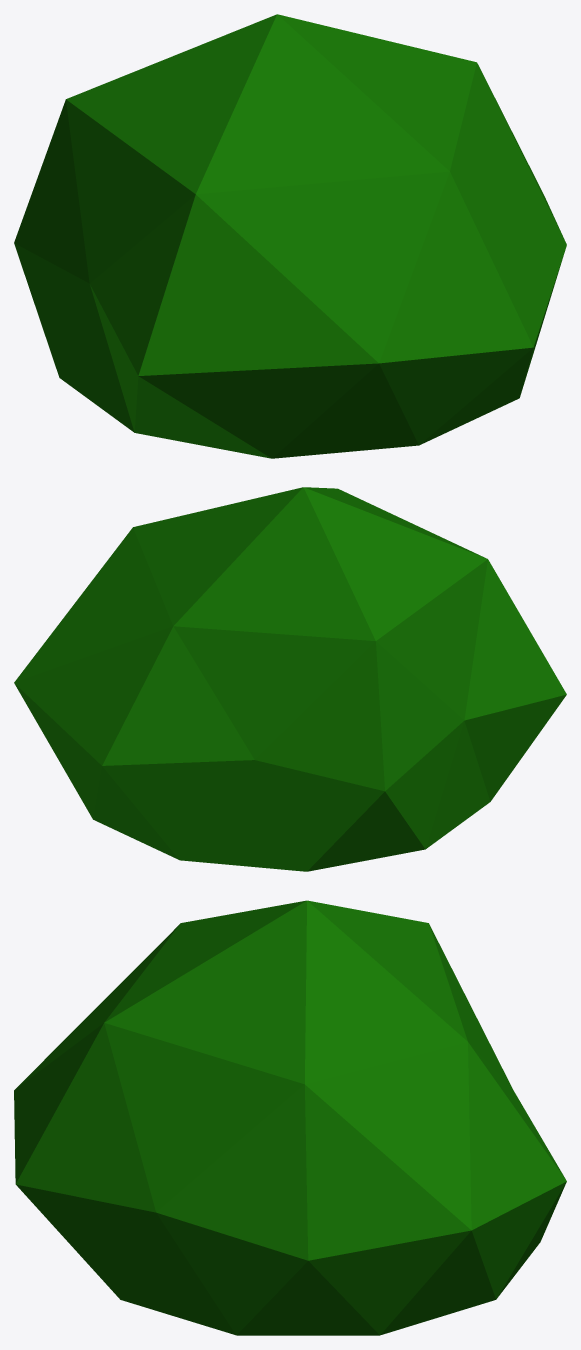
File: arbusto1.FBX
3 views of the same model, one above another, from view 1: azimuth 30°, elevation 25°; view 2: azimuth 150°, elevation 25°; view 3: azimuth 270°, elevation 25° (orthographic). The views are drawn at different scales.
Parts seen in each view (by area): view 1: GeoSphere002; view 2: GeoSphere002; view 3: GeoSphere002.
Boxes of the visible parts, box(x1,y1,x2,y2) form: GeoSphere002: box(14, 14, 566, 458); GeoSphere002: box(14, 487, 566, 871); GeoSphere002: box(14, 900, 566, 1335).
Bounding box in the file's own units: 151 × 103 × 155.
